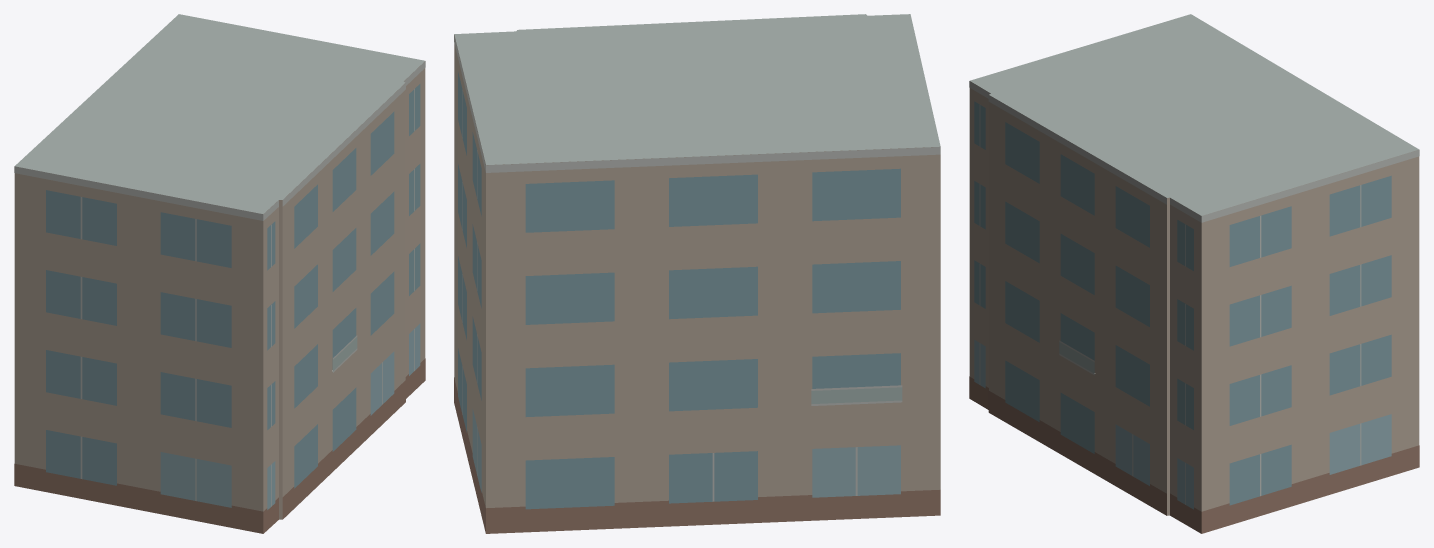
File: survey-upis-32536734.glb
3 renders of one model, left to right at view 1: azimuth 30°, elevation 25°; view 2: azimuth 150°, elevation 25°; view 3: azimuth 270°, elevation 25°, orthographic. The views are drawn at different scales.
Parts seen in each view (by area): view 1: survey-upis-32536734.tmp; view 2: survey-upis-32536734.tmp; view 3: survey-upis-32536734.tmp.
Boxes of the visible parts, x1,y1,x2,y2 form: survey-upis-32536734.tmp: (14, 14, 425, 533); survey-upis-32536734.tmp: (454, 14, 940, 533); survey-upis-32536734.tmp: (969, 14, 1419, 533).
Size of the model in its own units: 15.55 by 11.4 by 14.63.
